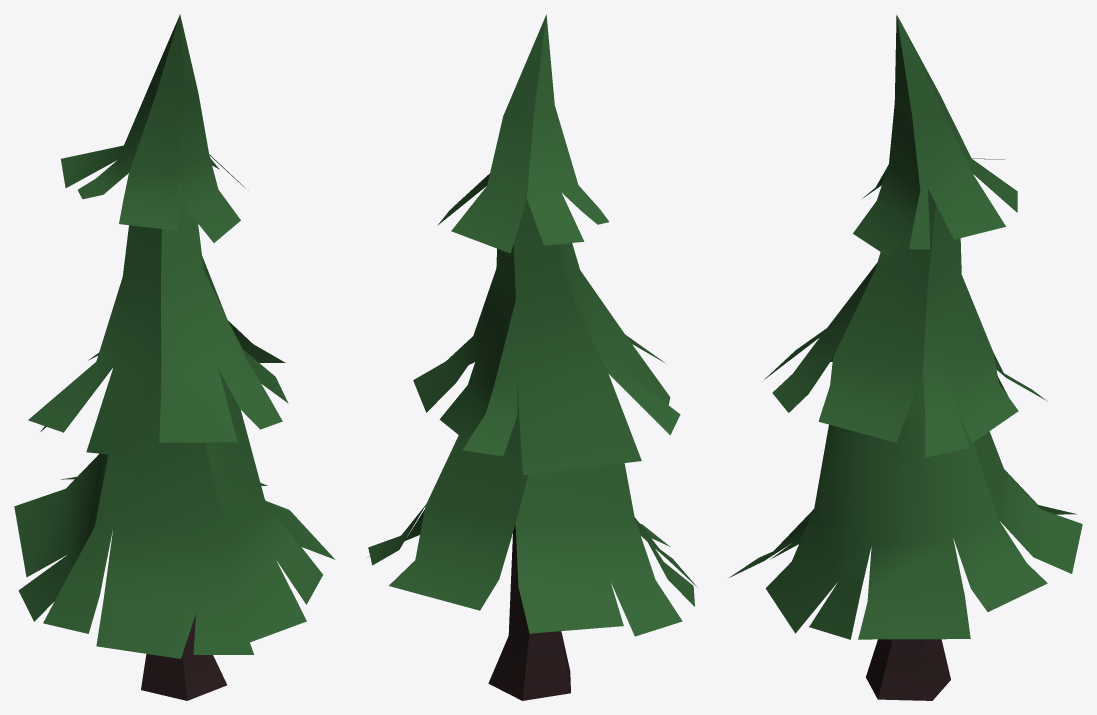
3 views of the same model, side by side, from view 1: azimuth 30°, elevation 25°; view 2: azimuth 150°, elevation 25°; view 3: azimuth 270°, elevation 25° (orthographic).
Parts seen in each view (by area): view 1: mff_tree_pine_1; view 2: mff_tree_pine_1; view 3: mff_tree_pine_1.
Boxes of the visible parts, <box> form: mff_tree_pine_1: <box>14,14,335,700</box>; mff_tree_pine_1: <box>367,14,697,700</box>; mff_tree_pine_1: <box>729,15,1082,700</box>.
Size of the model in its own units: 1.65 by 3.66 by 1.77.
Materials: 1 (1 with a texture image).
